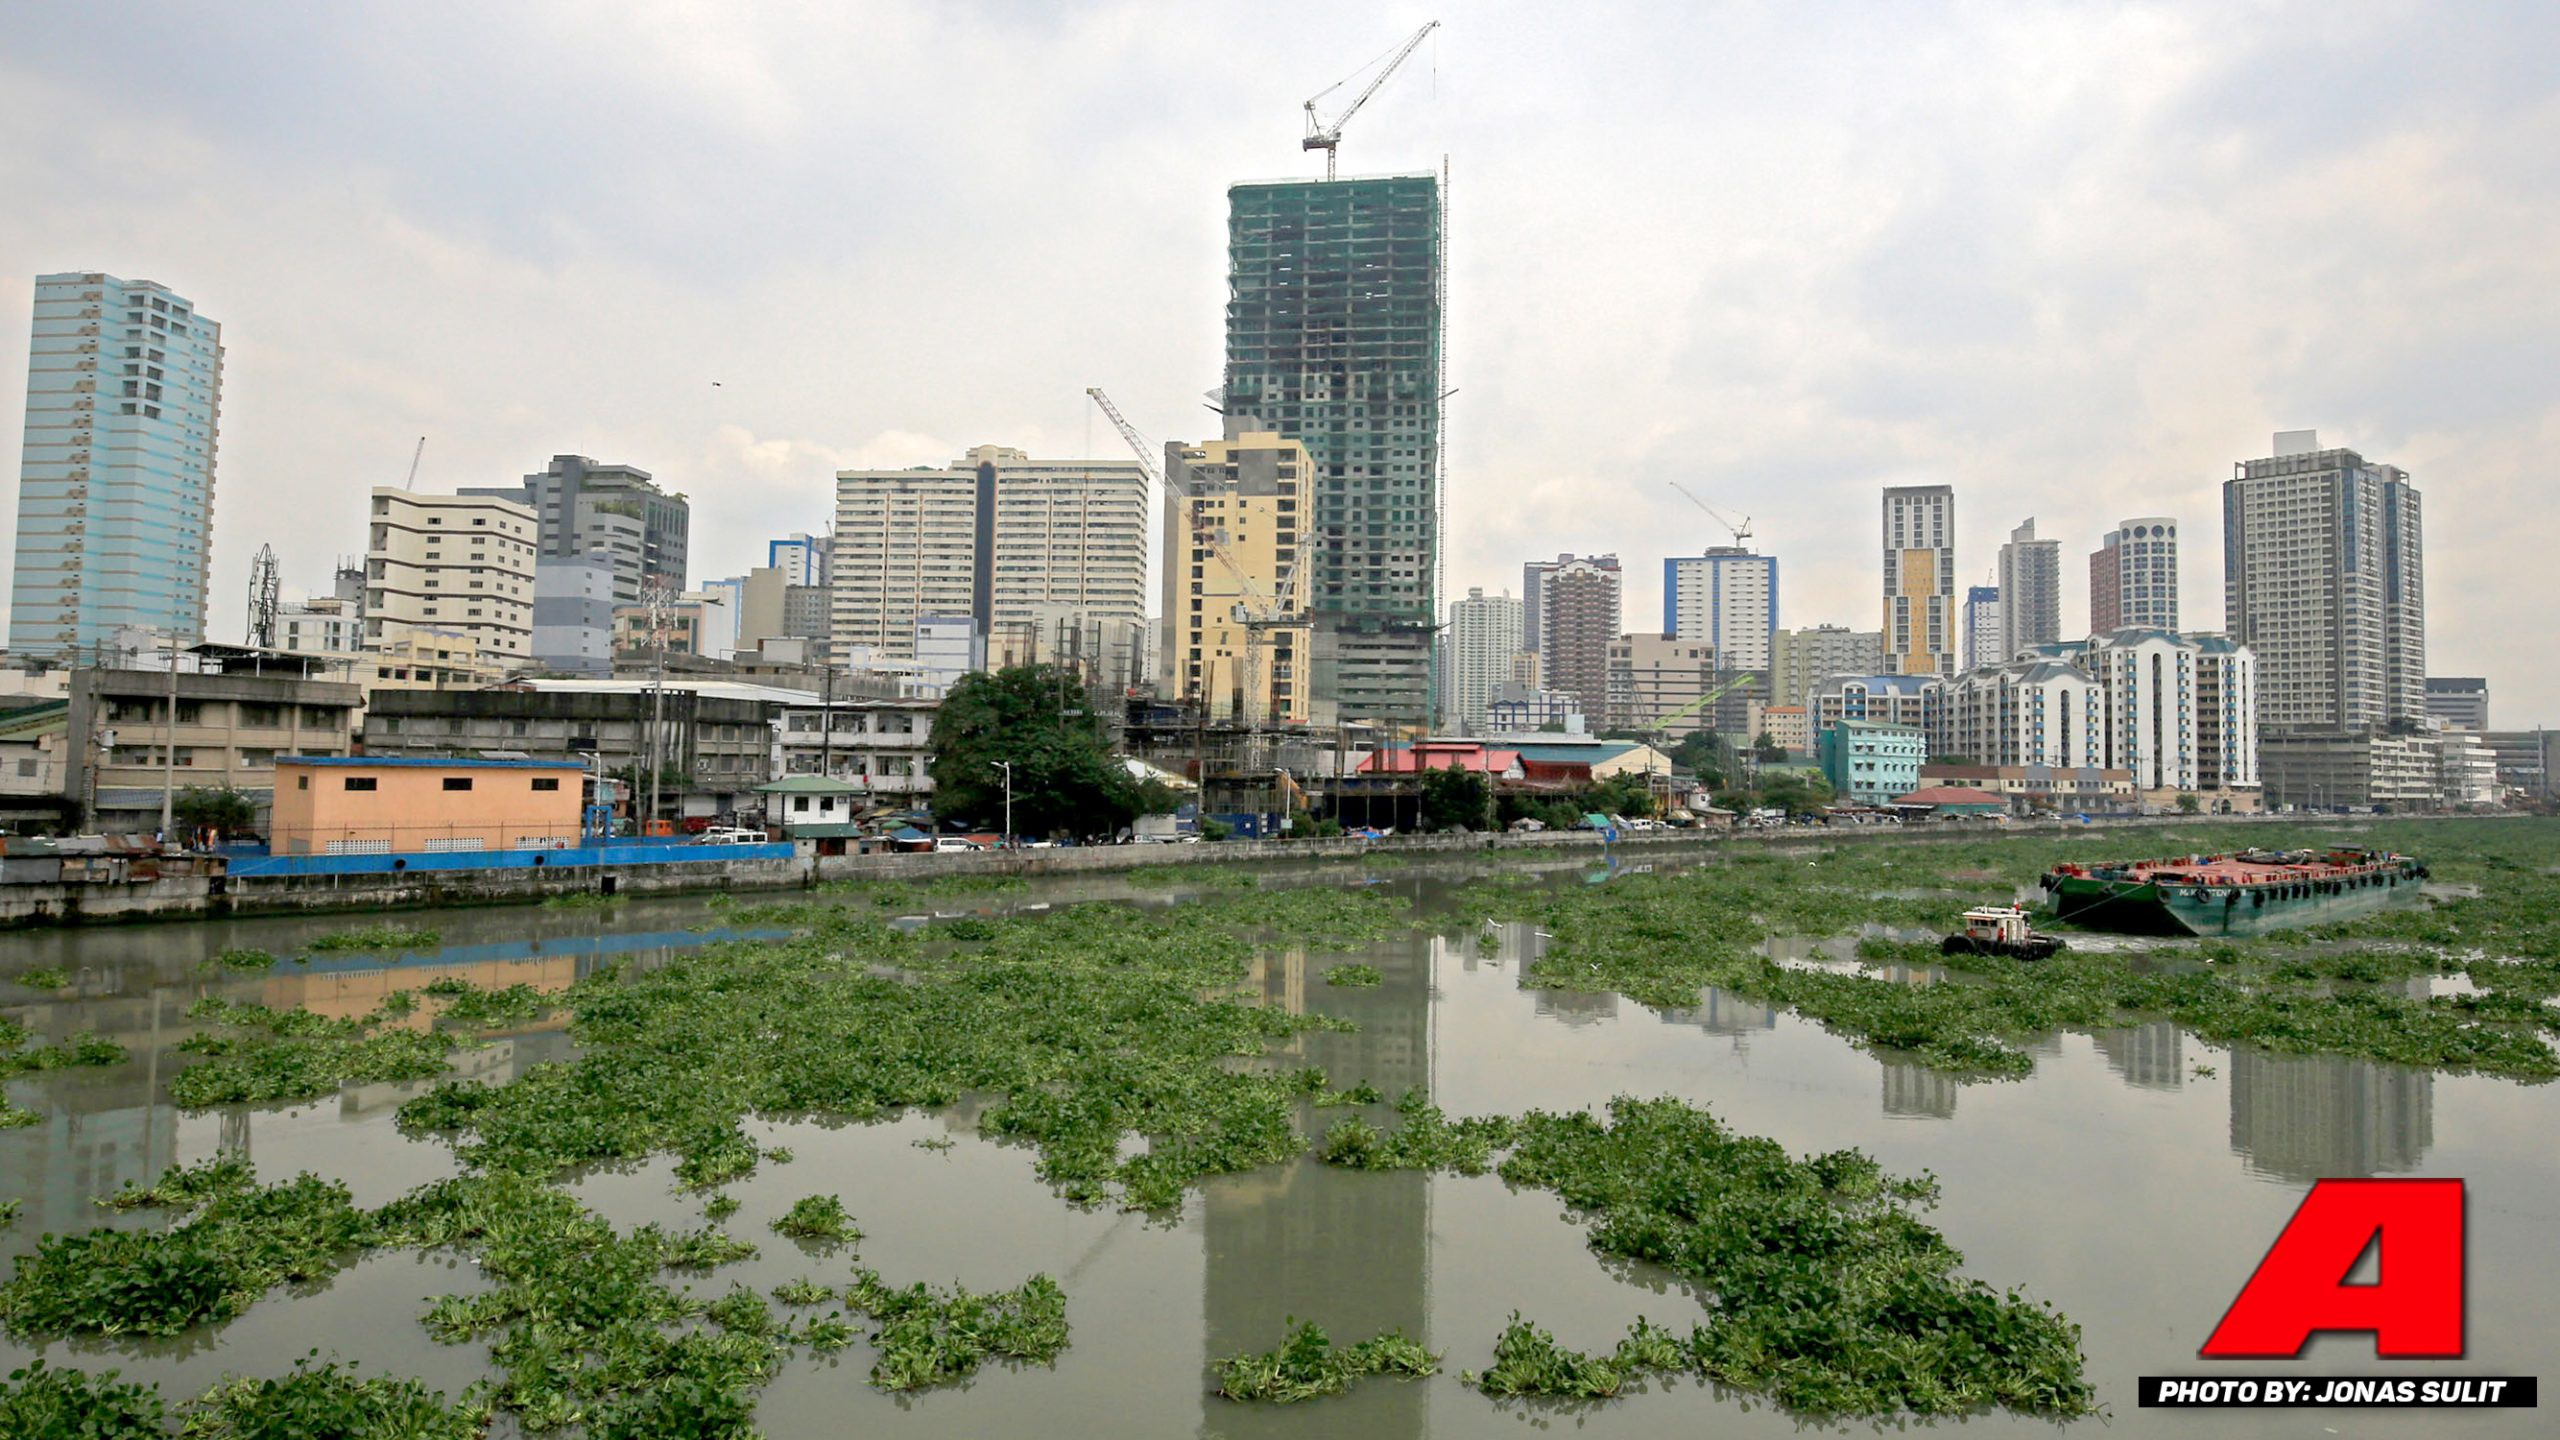water_hyacinth: (1363, 1037, 2110, 1440)
